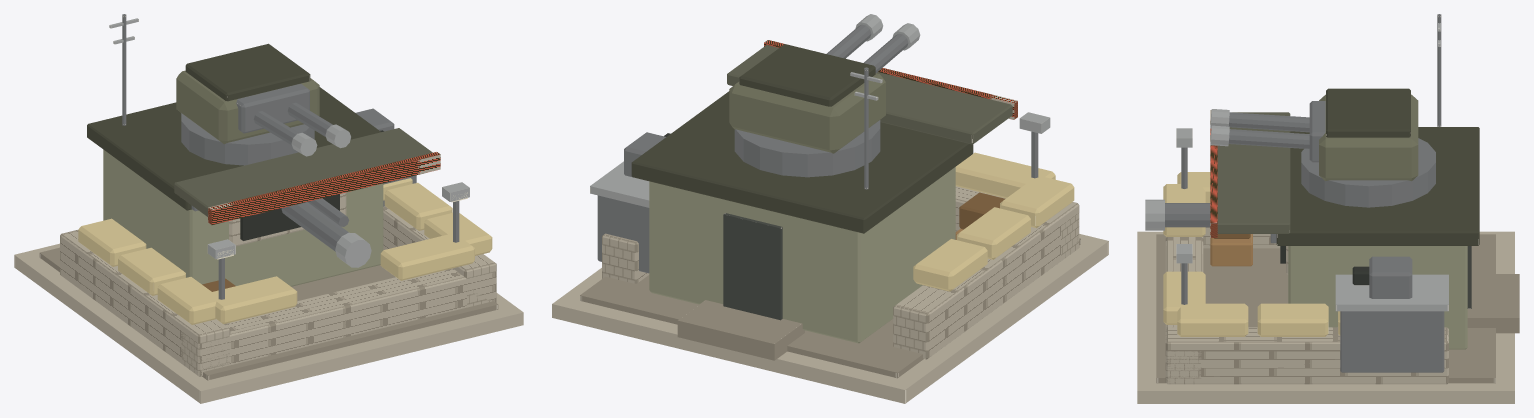
Rendered from gunTurret.glb.
3 views of the same model, side by side, from view 1: azimuth 30°, elevation 25°; view 2: azimuth 150°, elevation 25°; view 3: azimuth 270°, elevation 25° (orthographic). The views are drawn at different scales.
Parts seen in each view (by area): view 1: GunTurret, Lv1, GT_Head, MG_Barrel, Lv2, GT_Barrels; view 2: GunTurret, GT_Head, Lv1, GT_Barrels, Lv2; view 3: GunTurret, Lv1, GT_Head, GT_Barrels, Lv2, MG_Barrel.
Boxes of the visible parts, x1,y1,x2,y2 form: GunTurret: (14,87,523,403); Lv1: (174,108,440,226); GT_Head: (176,43,319,165); MG_Barrel: (281,202,371,267); Lv2: (109,14,469,299); GT_Barrels: (253,102,350,156); GunTurret: (552,91,1108,403); GT_Head: (729,44,885,177); Lv1: (590,40,1017,273); GT_Barrels: (826,14,920,72); Lv2: (850,67,1050,189); GunTurret: (1137,127,1519,403); Lv1: (1210,110,1448,372); GT_Head: (1301,88,1435,207); GT_Barrels: (1210,109,1309,148); Lv2: (1176,14,1441,304); MG_Barrel: (1145,199,1210,230).
Size of the model in its own units: 8 by 6.2 by 8.1.
2 materials, 1 textured.
